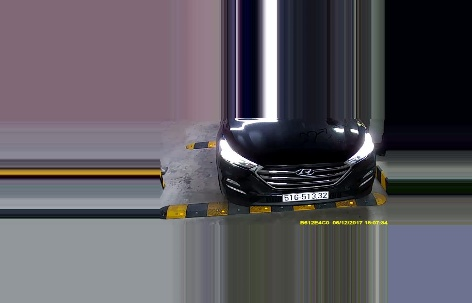plate: (280, 189, 328, 202)
